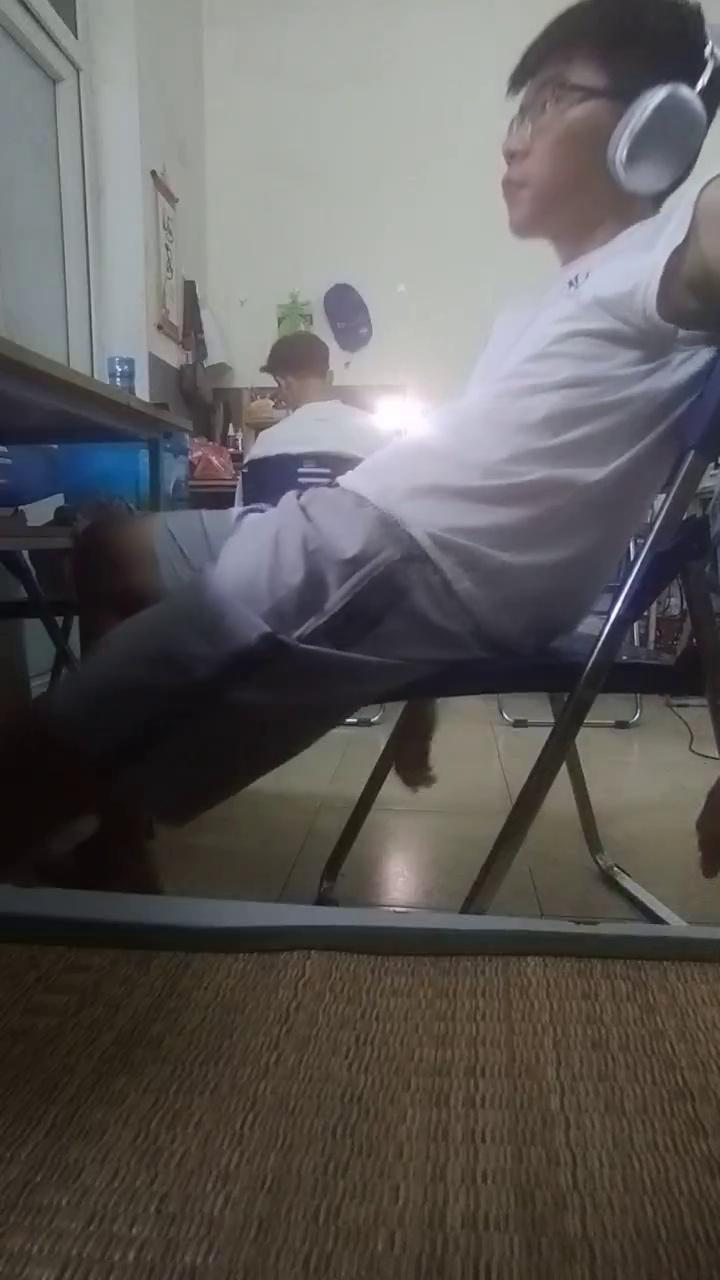BadPosture: (0, 0, 719, 885)
